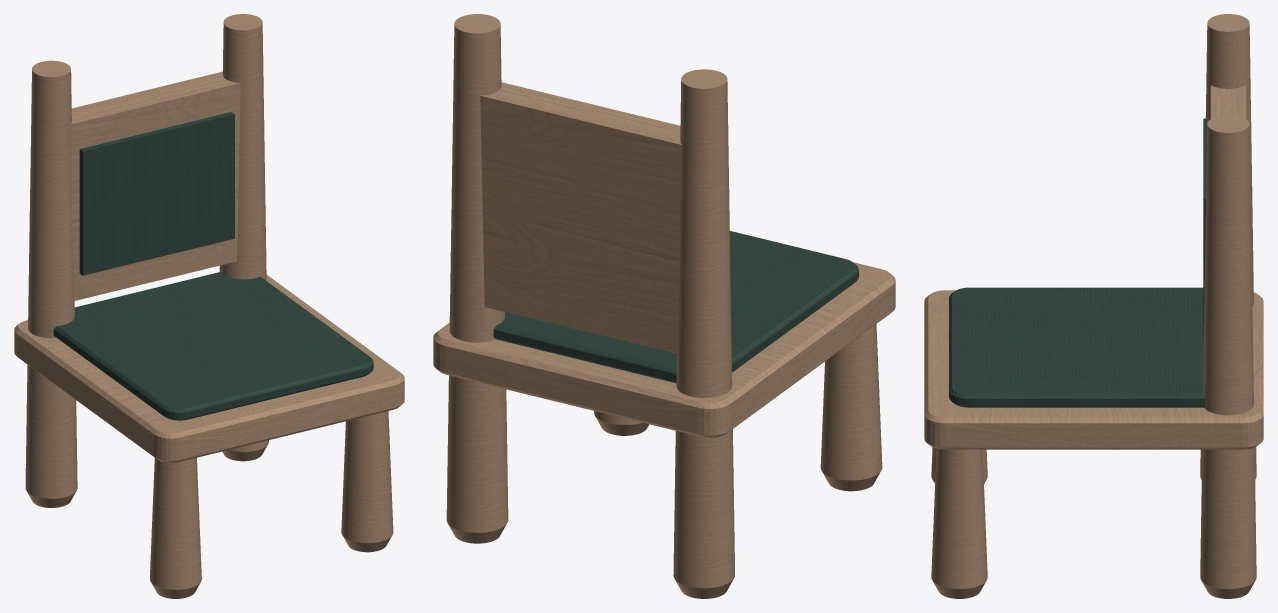
Rendered from furn_com_rm_chair_03.dae.
The picture shows the model from 3 angles, left to right: view 1: azimuth 30°, elevation 25°; view 2: azimuth 150°, elevation 25°; view 3: azimuth 270°, elevation 25°; orthographic projection. The views are drawn at different scales.
Visible parts, largest first — view 1: oak, sage; view 2: oak, sage; view 3: oak, sage.
Part boxes in pixels (x1=…): oak: x1=14, y1=14, x2=404, y2=598; sage: x1=53, y1=112, x2=373, y2=420; oak: x1=433, y1=14, x2=895, y2=598; sage: x1=493, y1=231, x2=858, y2=382; oak: x1=924, y1=14, x2=1263, y2=598; sage: x1=949, y1=118, x2=1210, y2=407.
Size of what is drawn, in the model's own units: 43.9 by 48.1 by 72.85.
